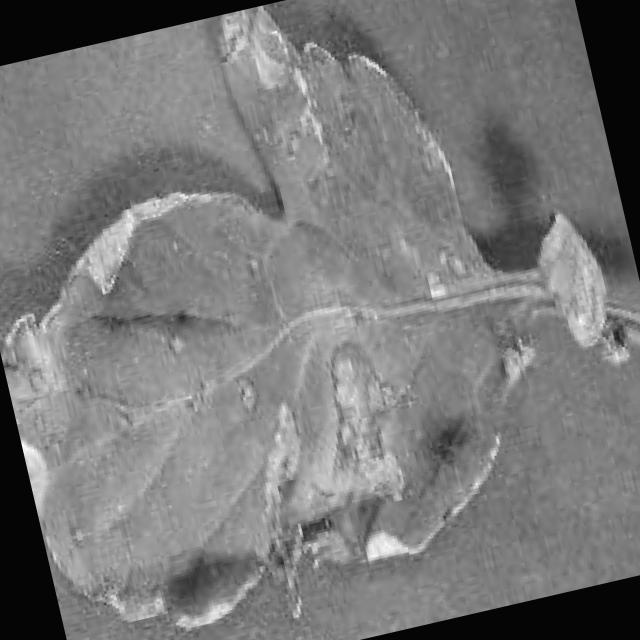bacterial spot: (2, 5, 640, 634)
